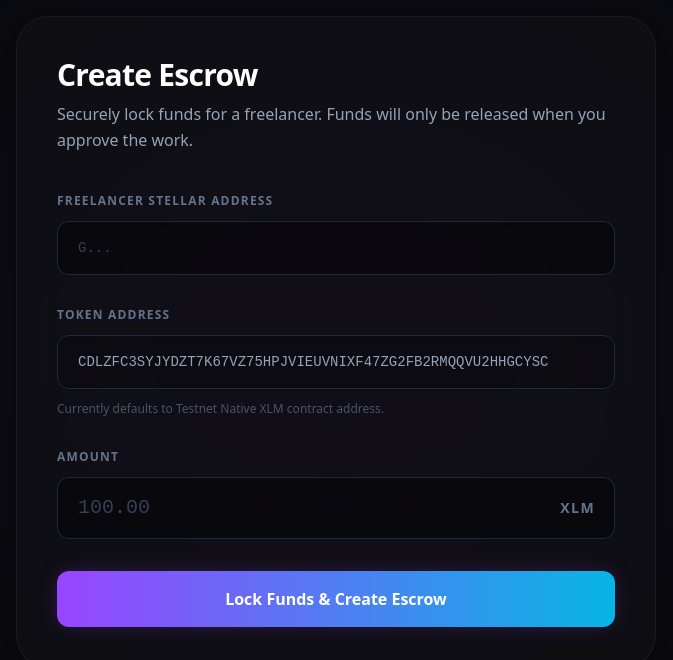
CreateEscrow › shows error for invalid address
Type "INVALID_ADDRESS_FORMAT" into the field with placeholder "G..." at (336, 248), box [57, 221, 615, 275]
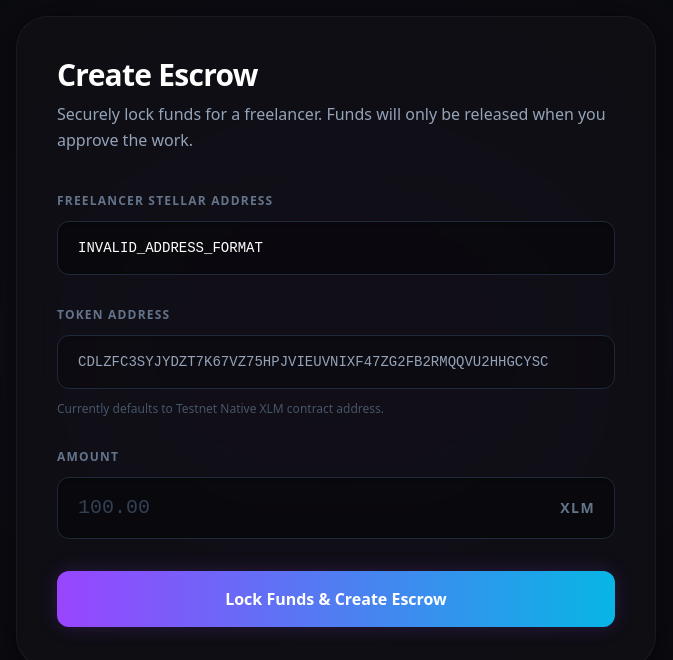
Type "100" into the number field with placeholder "100.00" at (336, 508), box [57, 477, 615, 539]
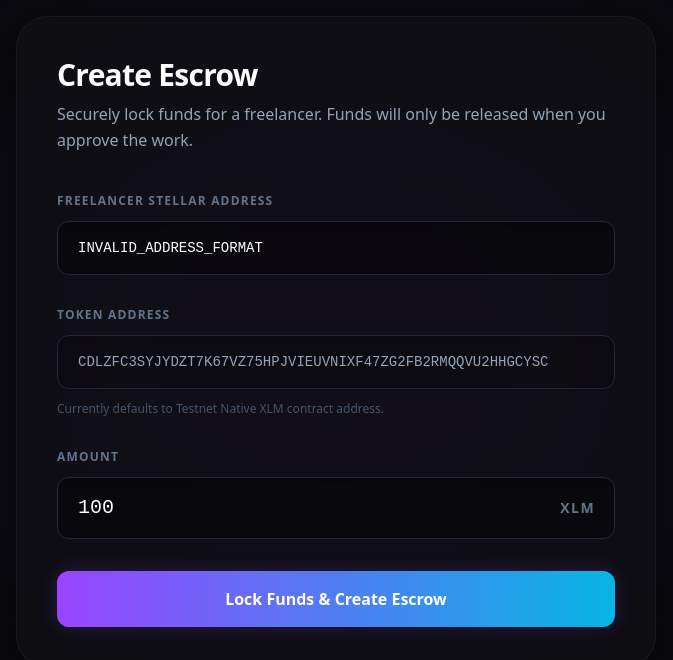
Submit the form named "Lock Funds & Create Escrow", box [57, 193, 615, 627]
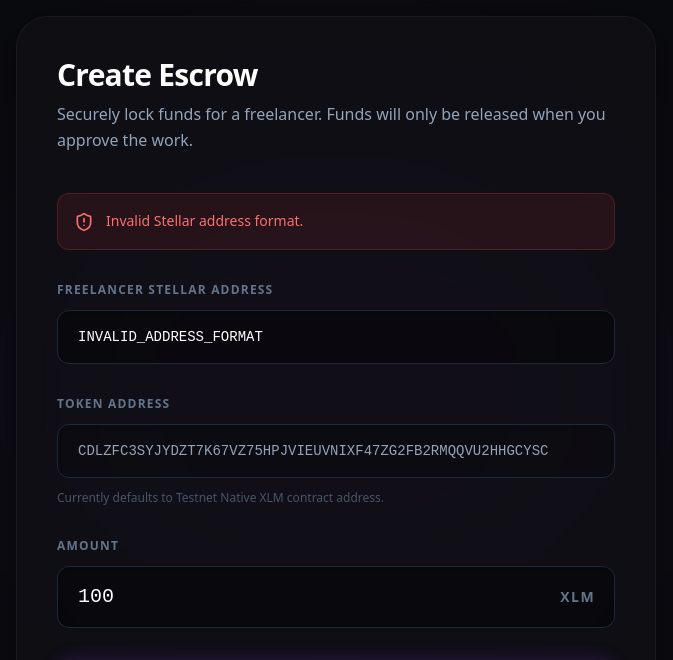
Result: the text "Invalid Stellar address format." is shown at [106, 210, 303, 233]
